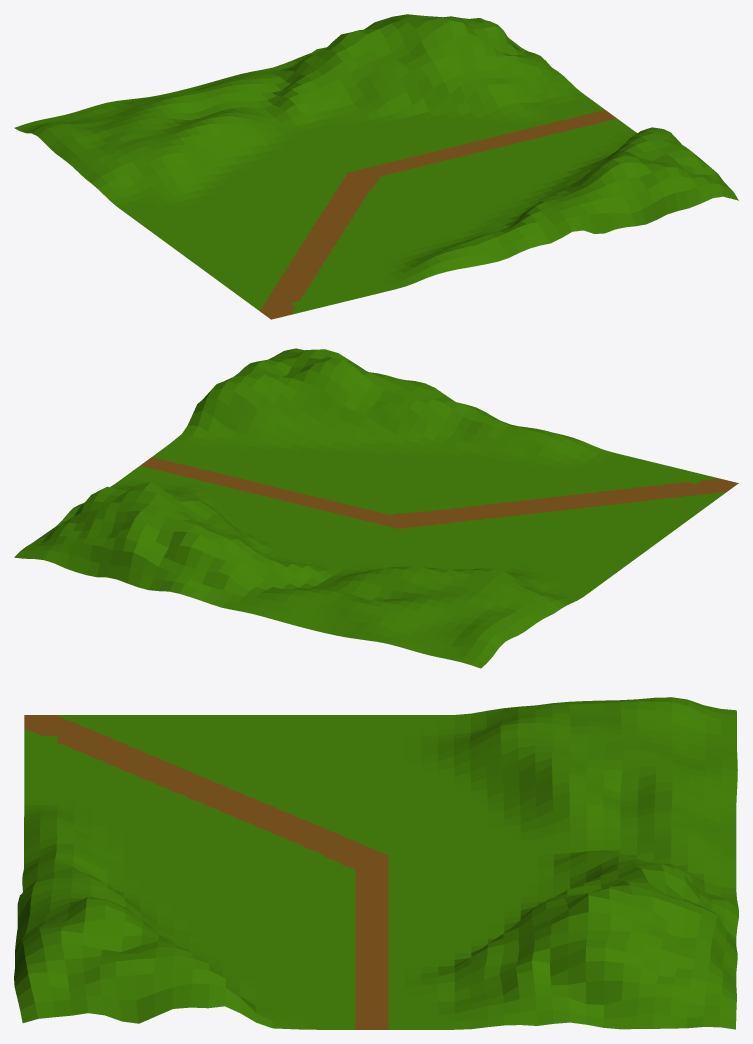
The model's file is Terrain New.fbx.
3 renders of one model, top to bottom at view 1: azimuth 30°, elevation 25°; view 2: azimuth 150°, elevation 25°; view 3: azimuth 270°, elevation 25°, orthographic. The views are drawn at different scales.
Visible parts, largest first — view 1: Plane; view 2: Plane; view 3: Plane.
Part boxes in pixels (x1=…): Plane: x1=14, y1=14, x2=738, y2=319; Plane: x1=14, y1=348, x2=738, y2=668; Plane: x1=14, y1=697, x2=738, y2=1029.
Bounding box in the file's own units: 9113 × 1049 × 8762.
